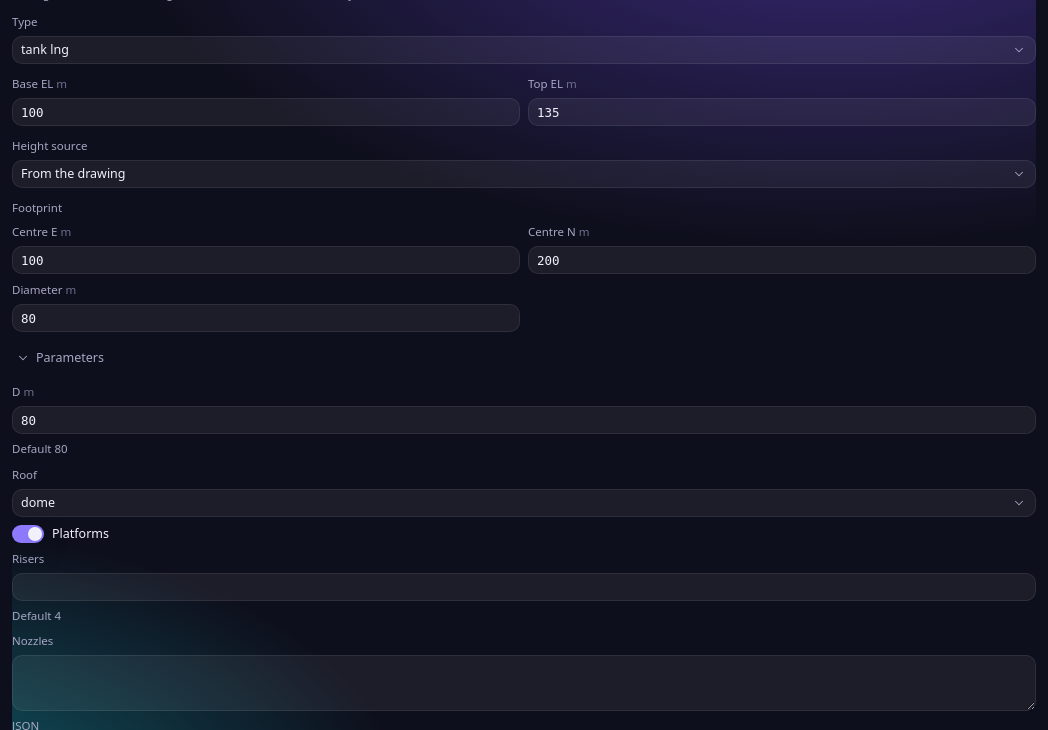
Test: ItemEditor › blocks a save that breaks a rule and says why
Replace the text in the number field labelled "Top EL m" with "90": coordinates (782, 112) [528, 98, 1036, 126]
(page scrolled)
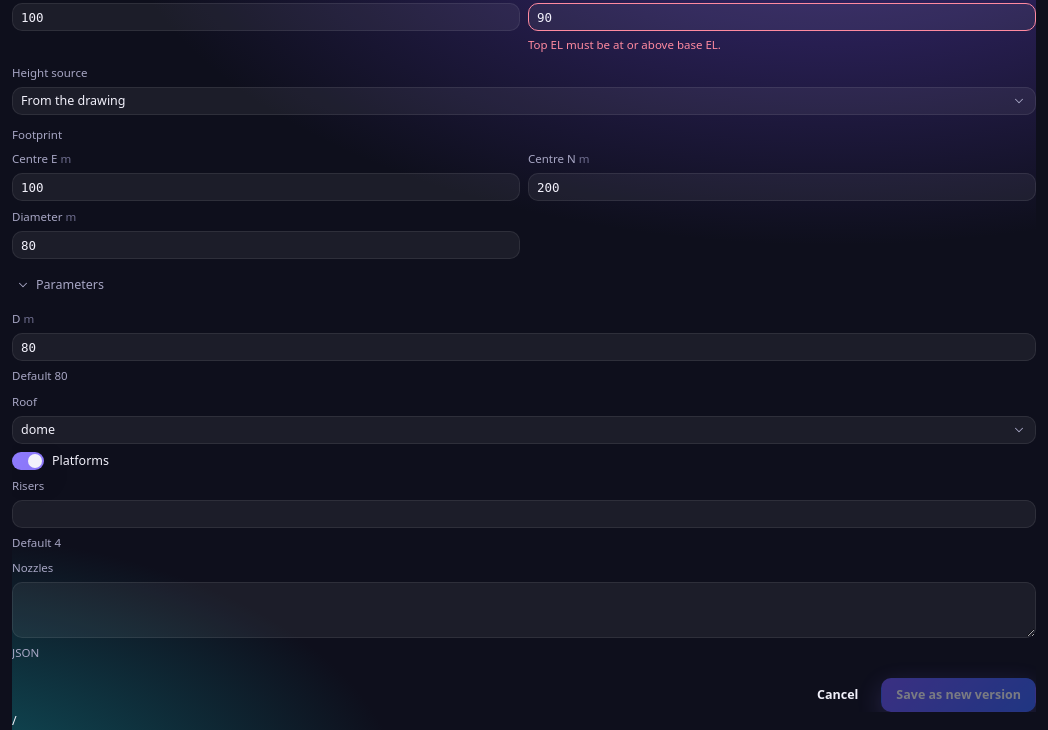
Check: the button "Save as new version" is disabled, box [881, 678, 1036, 712]
Check: the text "Top EL must be at or above base EL." is shown, box [528, 37, 721, 52]
